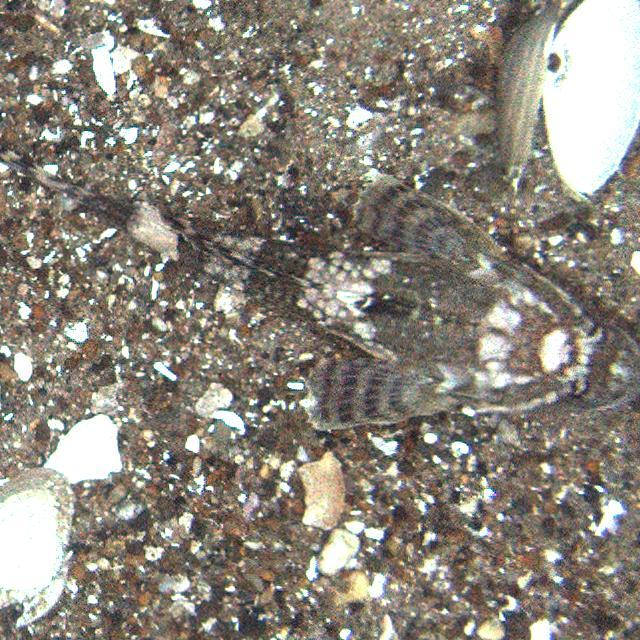roundfish: (3, 135, 640, 433)
